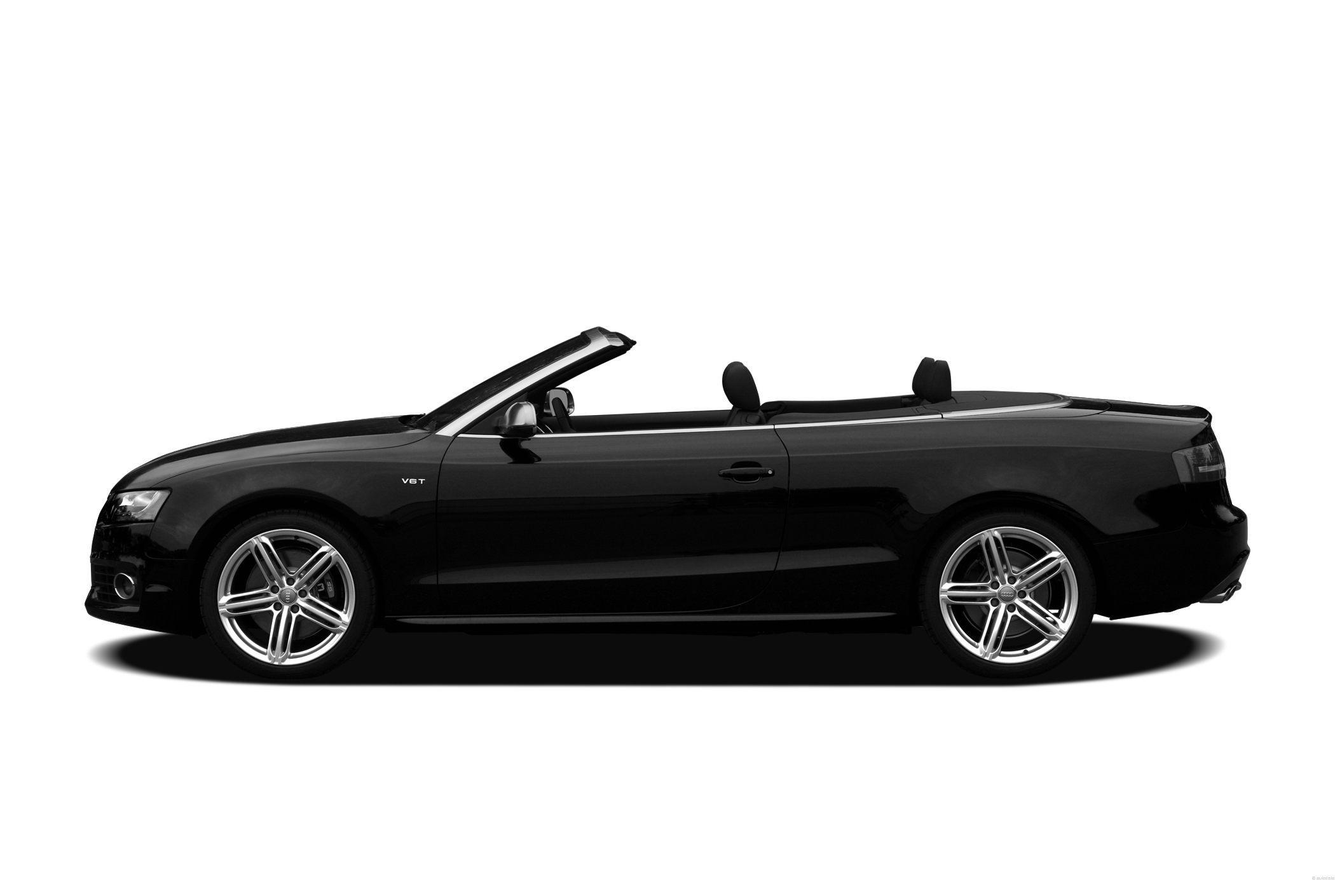car: (85, 322, 1250, 686)
